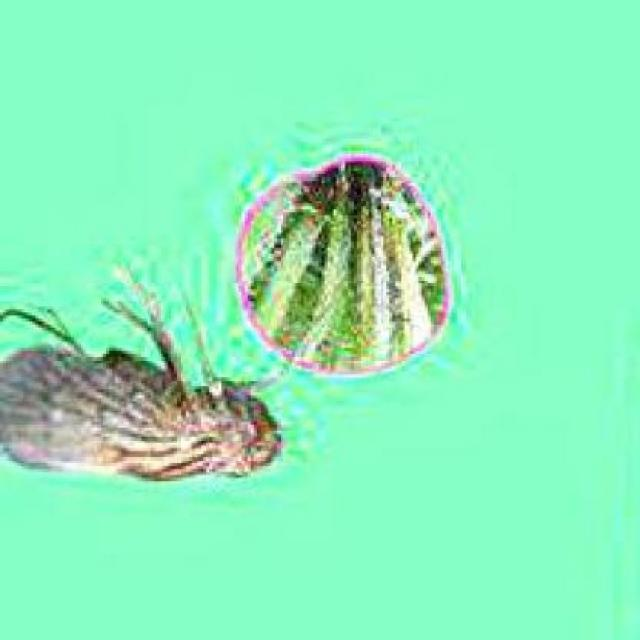brown-planthopper: (0, 344, 282, 482)
